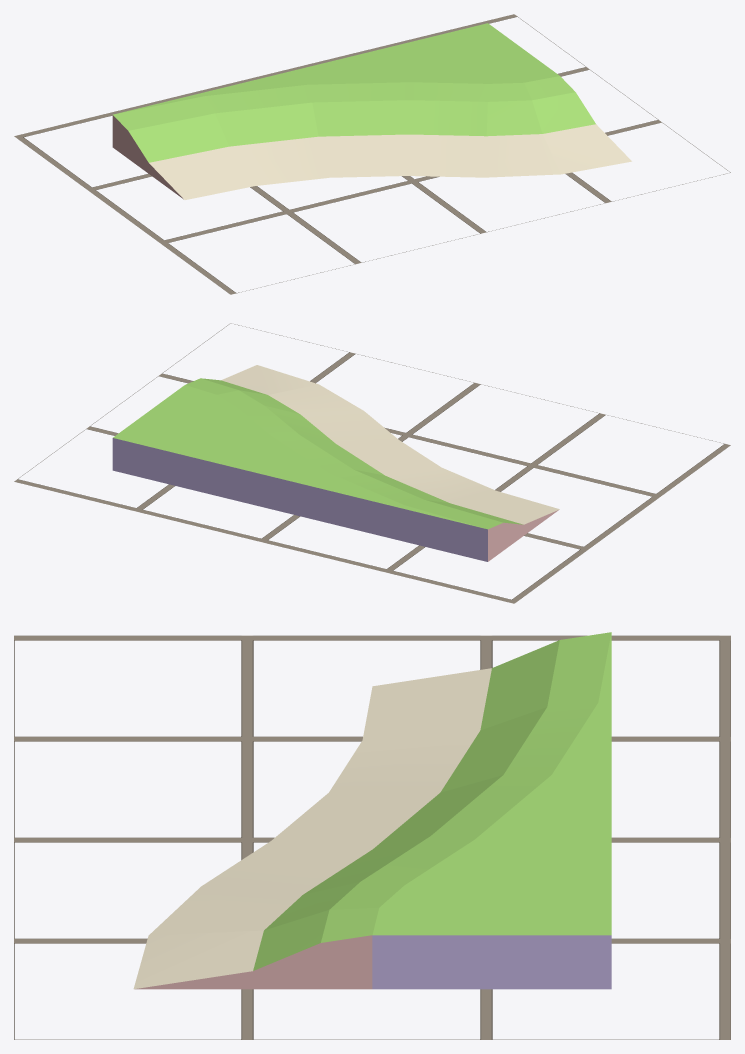
File: Path_Terrain_Basic_Esse_2x3.glb
The picture shows the model from 3 angles, top to bottom: view 1: azimuth 30°, elevation 25°; view 2: azimuth 150°, elevation 25°; view 3: azimuth 270°, elevation 25°; orthographic projection. The views are drawn at different scales.
Visible parts, largest first — view 1: Path_Terrain_Basic_Esse_2x3, Floor; view 2: Path_Terrain_Basic_Esse_2x3, Floor; view 3: Path_Terrain_Basic_Esse_2x3, Floor.
Part boxes in pixels (x1,y1,x2,y2): Path_Terrain_Basic_Esse_2x3: (112,23,631,199); Floor: (14,14,730,294); Path_Terrain_Basic_Esse_2x3: (112,365,559,561); Floor: (14,323,730,603); Path_Terrain_Basic_Esse_2x3: (133,632,611,989); Floor: (14,635,730,1039).
Bounding box in the file's own units: 400 × 25 × 300.
Materials: 6 (1 with a texture image).
